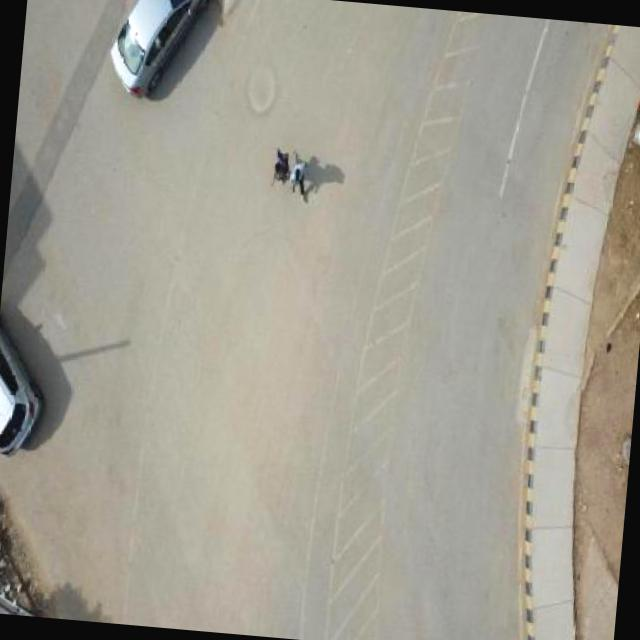Person: (287, 157, 309, 203), (270, 148, 290, 194)
